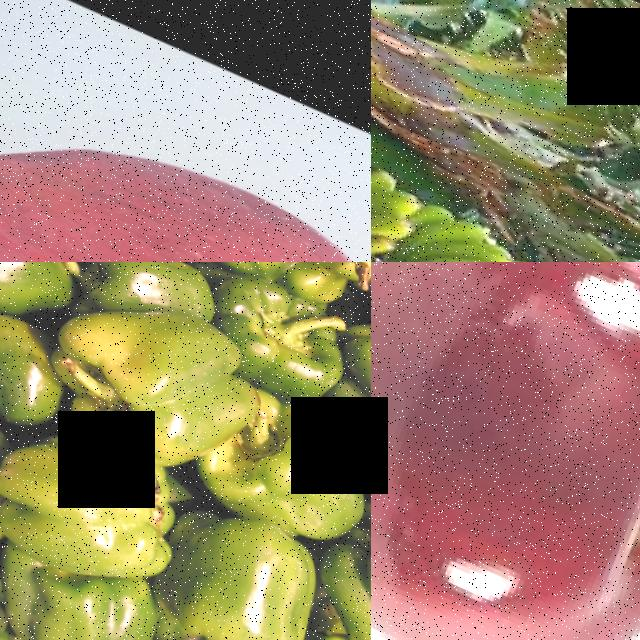apple: (371, 262, 640, 640), (0, 72, 371, 262)
banana: (371, 179, 566, 262), (371, 157, 436, 262)
bell pepper: (61, 297, 269, 487), (126, 493, 336, 640), (0, 425, 170, 601), (219, 395, 371, 551), (204, 268, 347, 381), (0, 558, 142, 640), (56, 262, 200, 328), (318, 303, 371, 480), (0, 303, 61, 444)
